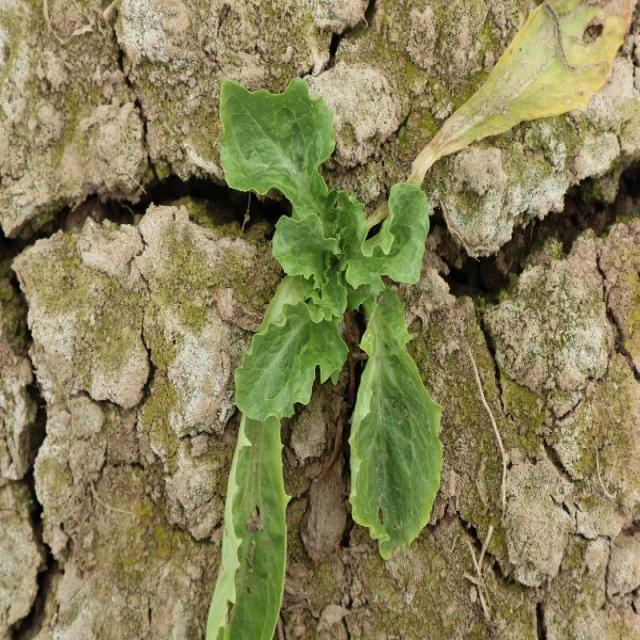crop: (206, 79, 444, 640)
